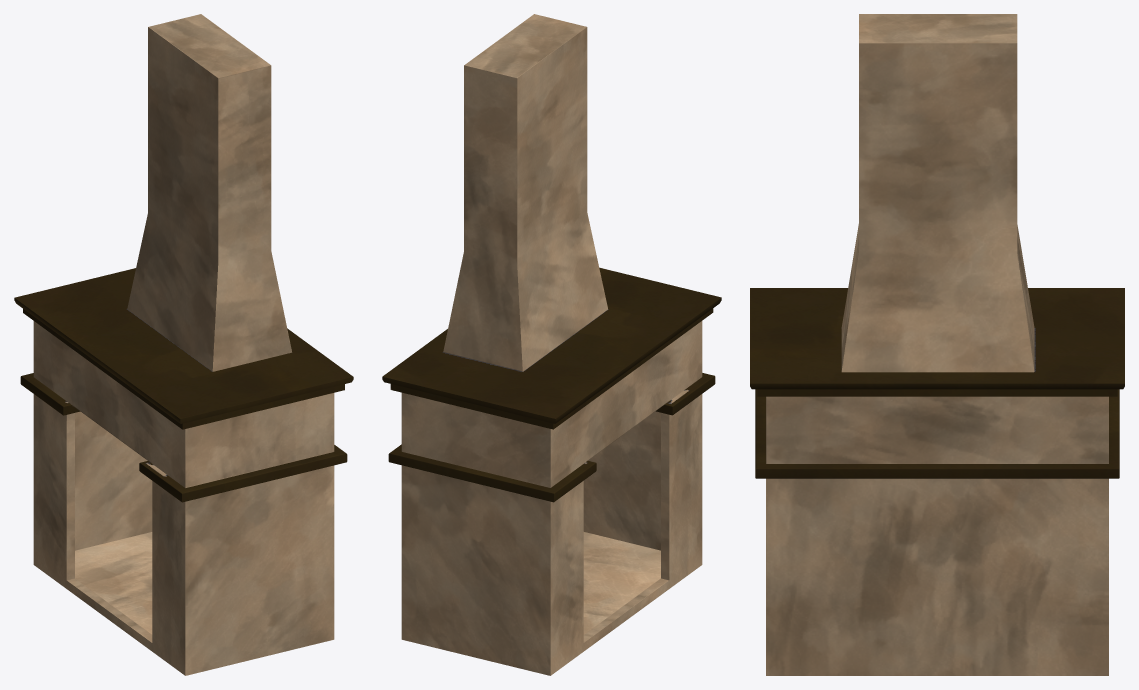
The model's file is House_Fireplace_v01.fbx.
3 views of the same model, side by side, from view 1: azimuth 30°, elevation 25°; view 2: azimuth 150°, elevation 25°; view 3: azimuth 270°, elevation 25° (orthographic). The views are drawn at different scales.
Visible parts, largest first — view 1: Fireplace_Body, Fireplace_SmokeHole, Fireplace_Body_Rim; view 2: Fireplace_Body, Fireplace_SmokeHole, Fireplace_Body_Rim; view 3: Fireplace_Body, Fireplace_SmokeHole, Fireplace_Body_Rim.
Boxes of the visible parts, box(x1,y1,x2,y2) form: Fireplace_Body: box(33, 321, 334, 675); Fireplace_SmokeHole: box(127, 14, 292, 371); Fireplace_Body_Rim: box(14, 268, 353, 502); Fireplace_Body: box(401, 321, 702, 675); Fireplace_SmokeHole: box(443, 14, 607, 371); Fireplace_Body_Rim: box(382, 267, 721, 502); Fireplace_Body: box(766, 396, 1108, 675); Fireplace_SmokeHole: box(841, 14, 1034, 372); Fireplace_Body_Rim: box(750, 288, 1124, 478).
Size of the model in its own units: 128 by 212 by 388.
2 materials, 2 textured.
